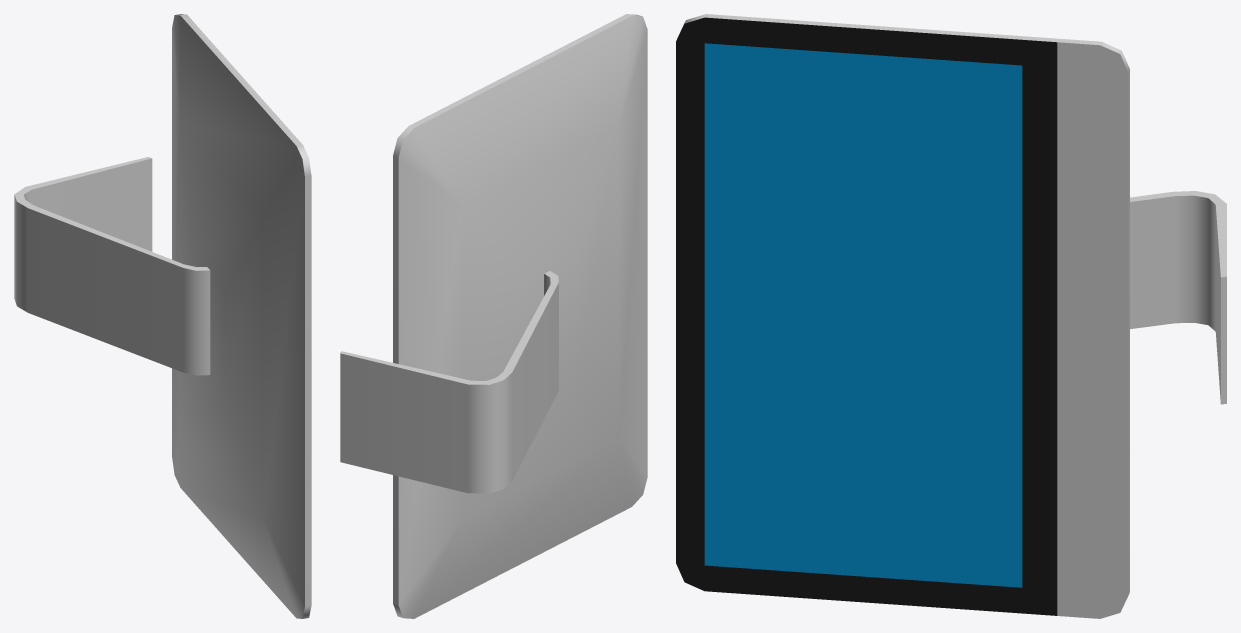
Rendered from iMac_01.gltf.
The picture shows the model from 3 angles, left to right: view 1: azimuth 30°, elevation 25°; view 2: azimuth 150°, elevation 25°; view 3: azimuth 270°, elevation 25°; orthographic projection. The views are drawn at different scales.
Parts seen in each view (by area): view 1: node-0; view 2: node-0; view 3: node-0.
Boxes of the visible parts, <box> form: node-0: <box>14,14,311,618</box>; node-0: <box>340,14,647,618</box>; node-0: <box>676,14,1226,618</box>.
Bounding box in the file's own units: 97.02 × 300 × 261.
